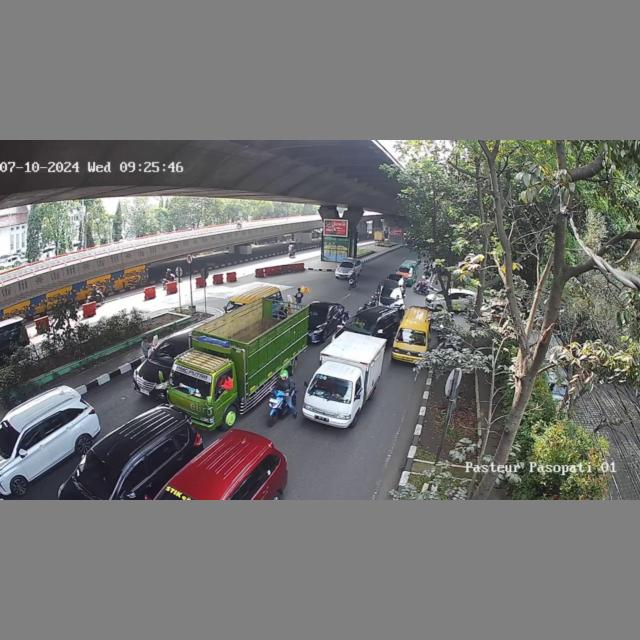windshield: (75, 451, 121, 497), (170, 361, 215, 401), (307, 372, 354, 403), (395, 328, 429, 348), (152, 342, 184, 358), (347, 316, 376, 333), (308, 305, 329, 320), (381, 288, 402, 298), (339, 261, 354, 268)
